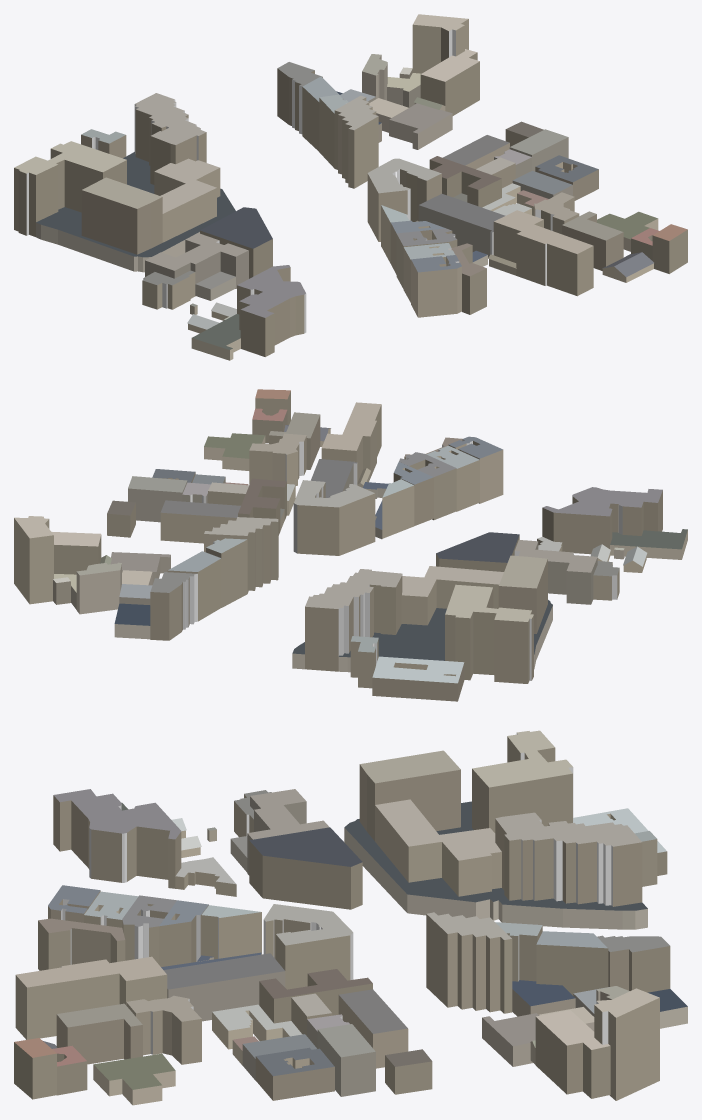
3 views of the same model, one above another, from view 1: azimuth 30°, elevation 25°; view 2: azimuth 150°, elevation 25°; view 3: azimuth 270°, elevation 25° (orthographic). The views are drawn at different scales.
Parts seen in each view (by area): view 1: tuile; view 2: tuile; view 3: tuile.
Part boxes in pixels (x1,y1,x2,y2): tuile: [14, 14, 687, 360]; tuile: [14, 389, 687, 701]; tuile: [14, 730, 687, 1105].
Bounding box in the file's own units: 281 × 40.18 × 269.
